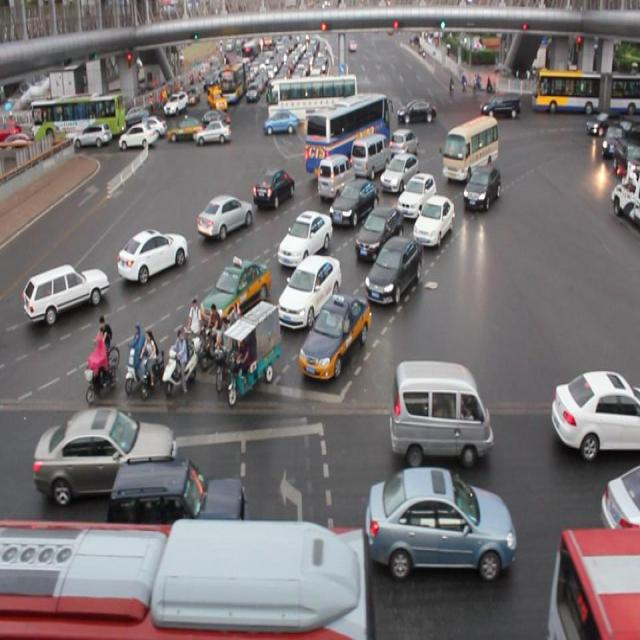car: (366, 462, 517, 580), (36, 409, 180, 500), (108, 452, 246, 534), (550, 368, 640, 457), (298, 295, 371, 383), (199, 255, 271, 334), (24, 258, 109, 322), (276, 252, 342, 330), (362, 231, 423, 307), (117, 224, 187, 282), (277, 210, 332, 268), (600, 461, 640, 535), (352, 208, 402, 263), (197, 193, 253, 241), (328, 177, 379, 225), (412, 194, 455, 247), (254, 168, 298, 208), (398, 172, 438, 213), (381, 148, 420, 190), (462, 166, 499, 207), (390, 126, 418, 162)
truck: (387, 354, 492, 466), (443, 114, 499, 181), (351, 134, 392, 178), (315, 156, 353, 202)
van: (0, 516, 371, 640), (544, 521, 640, 640), (306, 92, 392, 179)
